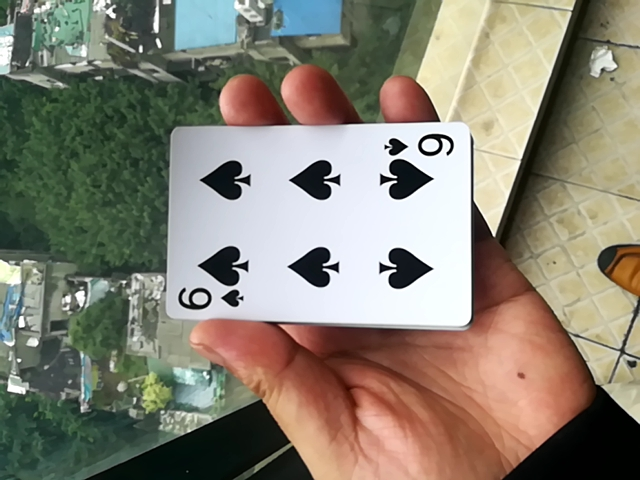ht 6: (149, 121, 472, 342)
